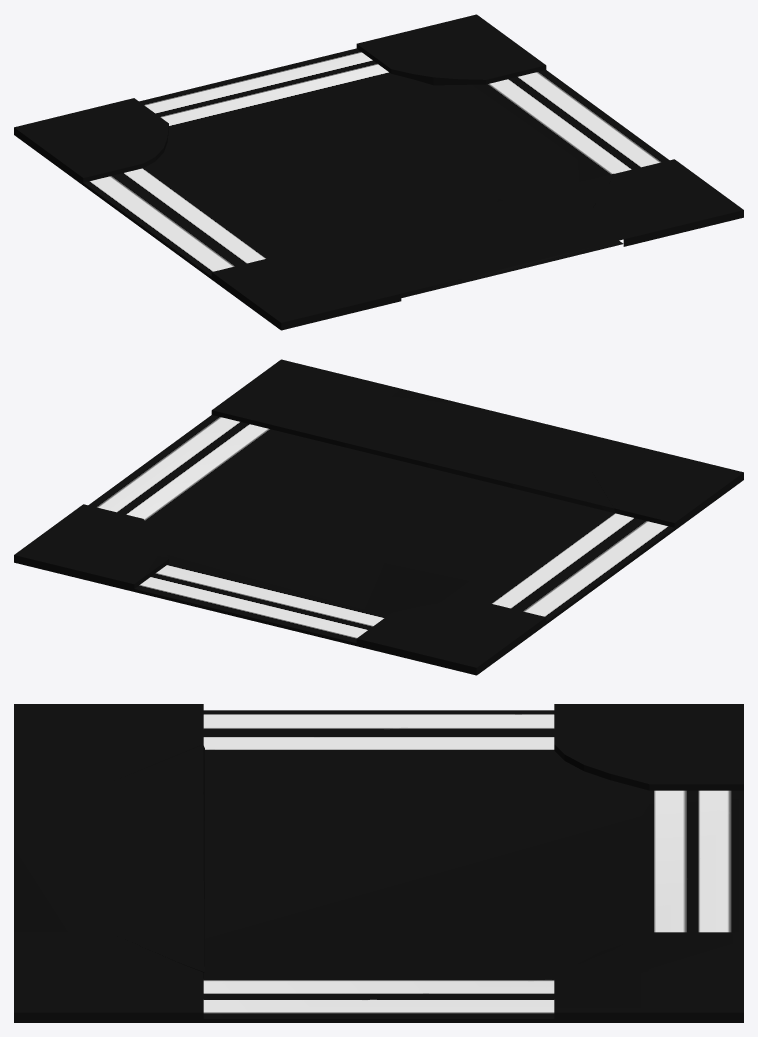
File: road2.FBX
3 renders of one model, top to bottom at view 1: azimuth 30°, elevation 25°; view 2: azimuth 150°, elevation 25°; view 3: azimuth 270°, elevation 25°, orthographic. The views are drawn at different scales.
Parts seen in each view (by area): view 1: Box001; view 2: Box001; view 3: Box001.
Boxes of the visible parts, x1=… form: Box001: x1=14, y1=14, x2=743, y2=330; Box001: x1=14, y1=359, x2=743, y2=675; Box001: x1=14, y1=704, x2=743, y2=1022.
Size of the model in its own units: 49 by 0.9786 by 49.
